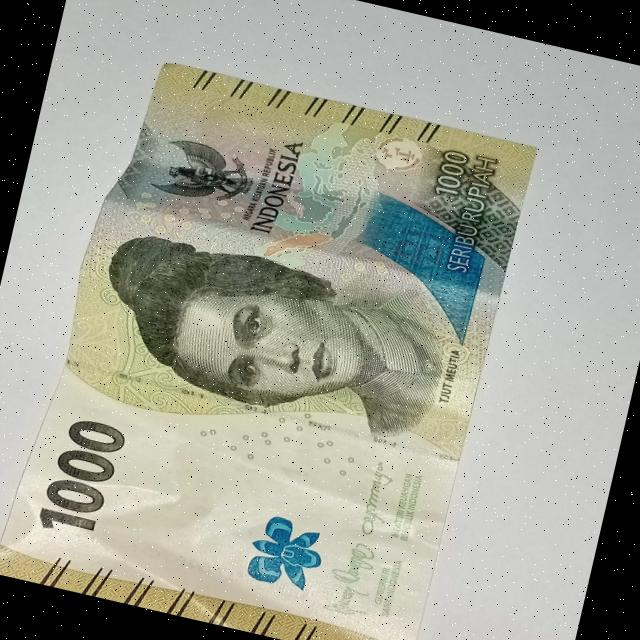1K: (6, 36, 550, 640)
